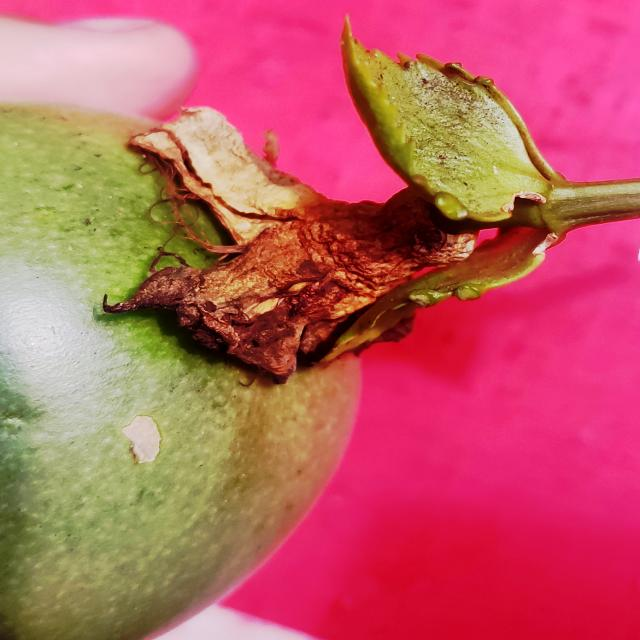Estado-1: (0, 25, 640, 640)
